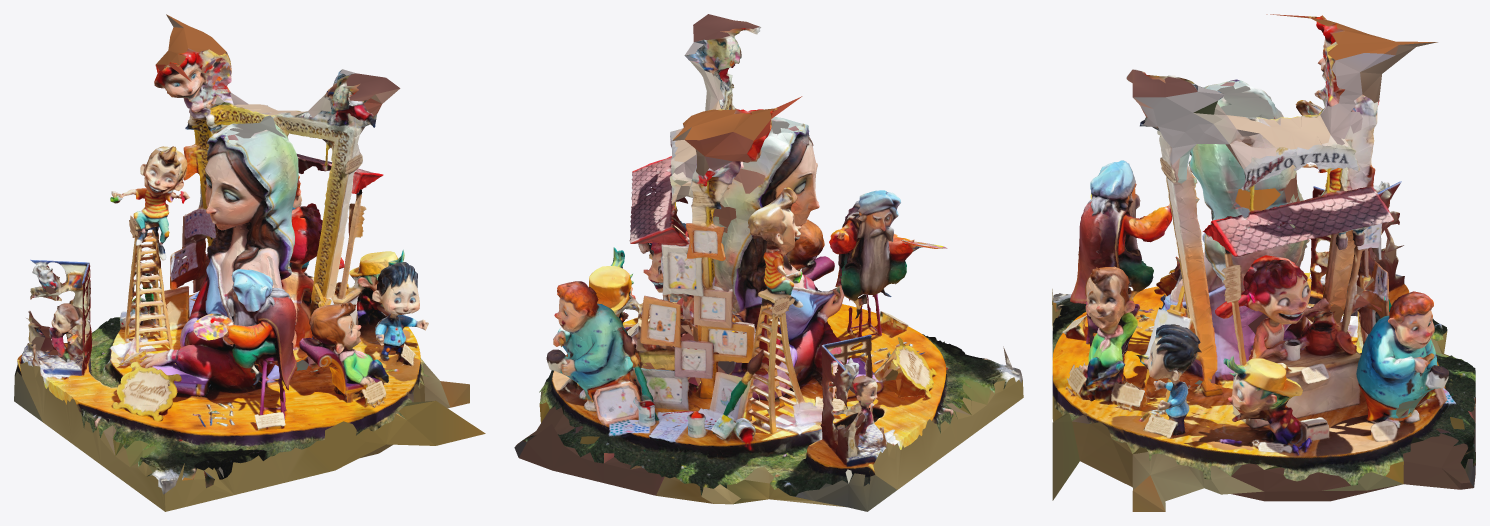
File: falla_infantil_segrelles_2024_-_test_small_sin_comprimir_2.glb
3 views of the same model, side by side, from view 1: azimuth 30°, elevation 25°; view 2: azimuth 150°, elevation 25°; view 3: azimuth 270°, elevation 25° (orthographic). The views are drawn at different scales.
Size of the model in its own units: 2.94 by 2.74 by 2.79.
1 material, 1 textured.
